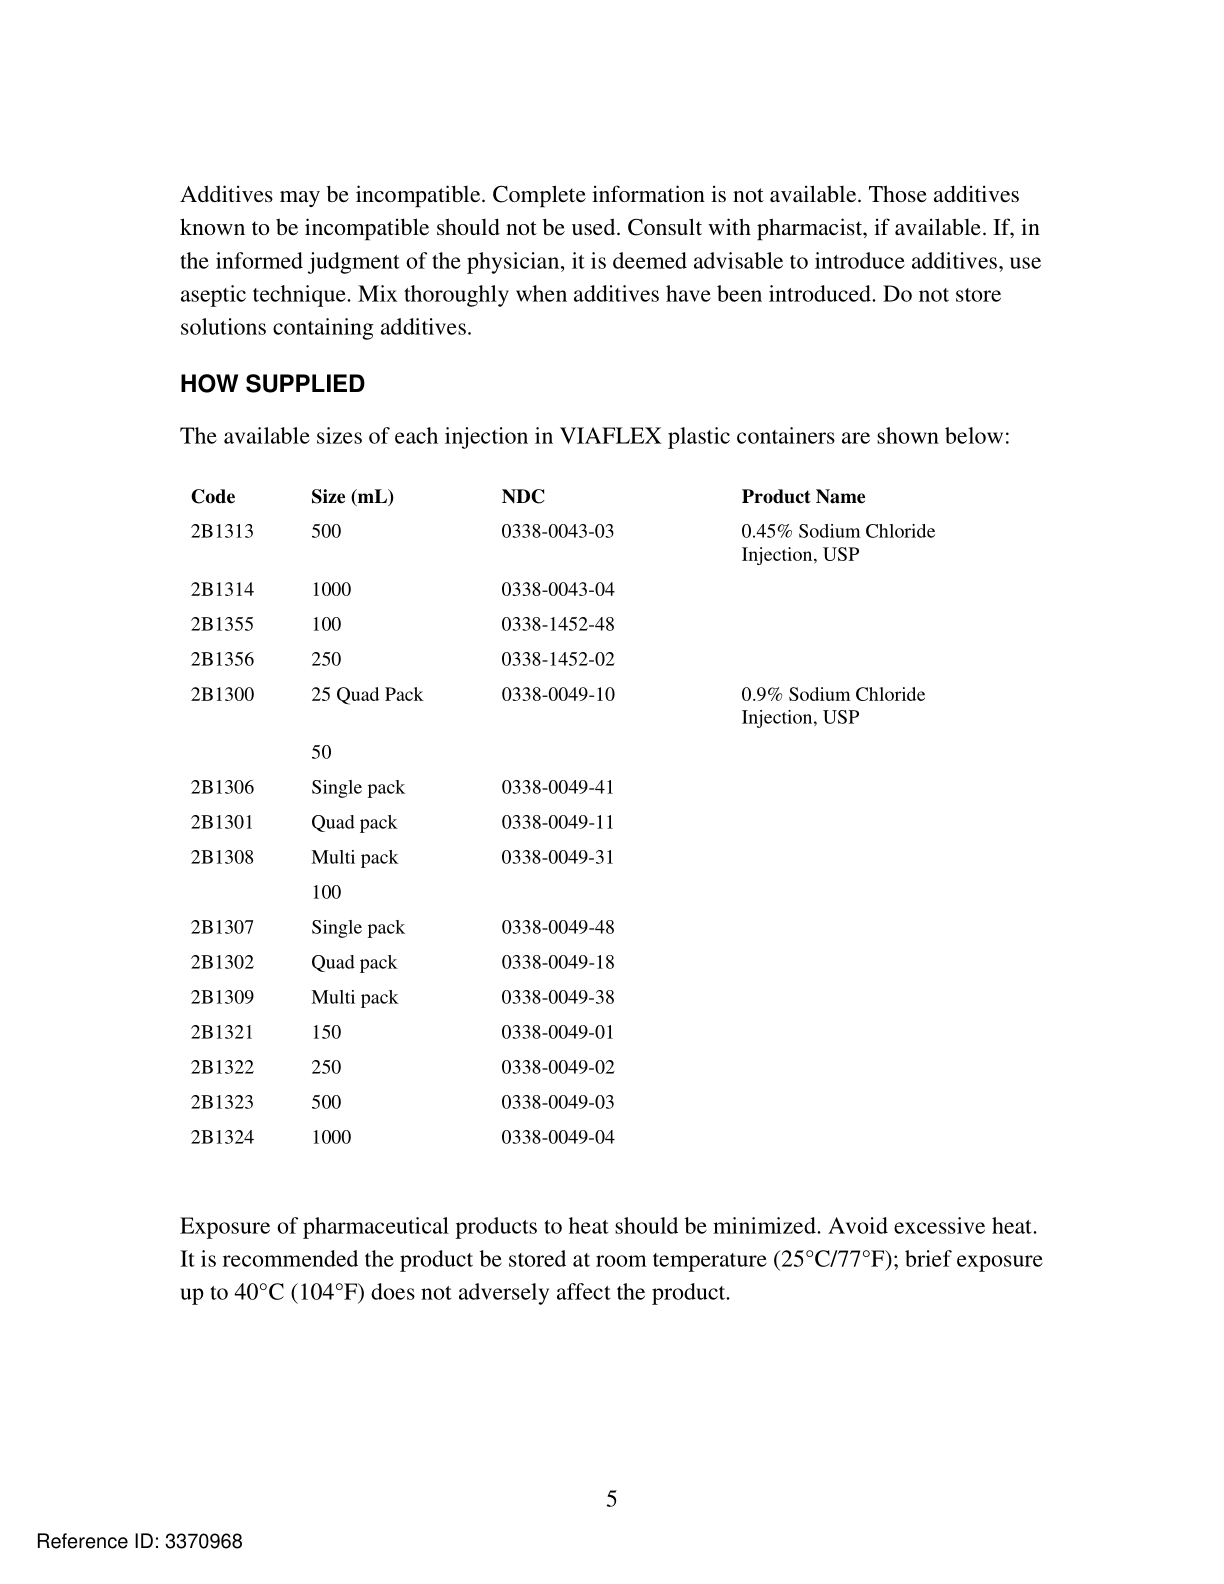nolines: (188, 485, 942, 1147)
